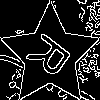R: (25, 30, 80, 86)
